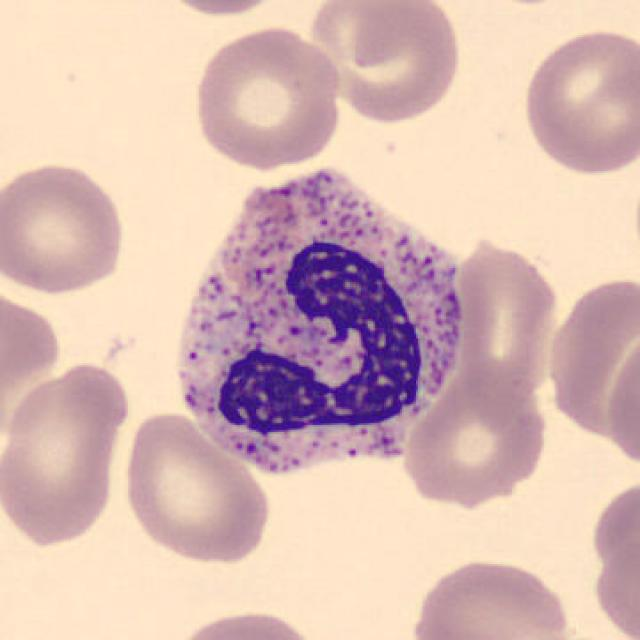Neutrophil: (158, 153, 476, 494)
RBC: (117, 407, 276, 566), (0, 360, 132, 550), (188, 21, 345, 173), (398, 374, 553, 509), (448, 233, 562, 411), (308, 0, 466, 125), (518, 23, 638, 178), (0, 157, 130, 298), (542, 266, 638, 450), (407, 553, 579, 640), (0, 278, 66, 434), (586, 473, 636, 587), (165, 604, 323, 640), (588, 534, 638, 640), (151, 0, 291, 19)
